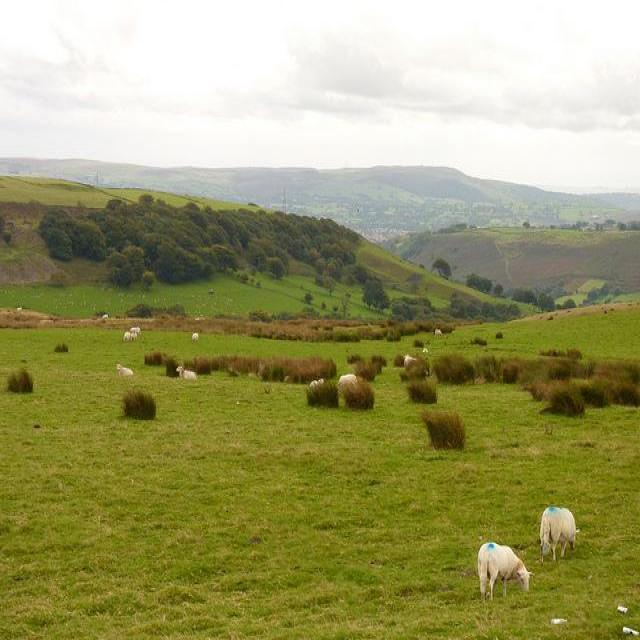Sheep: (476, 542, 535, 602), (539, 508, 582, 565)
